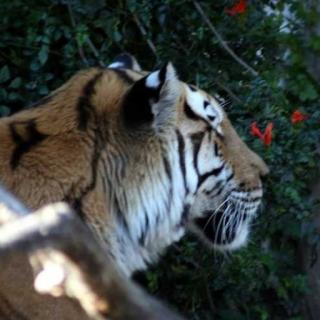Tiger: (0, 44, 289, 320)
